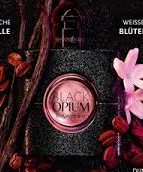ysl_black_opium: (16, 7, 123, 163)
